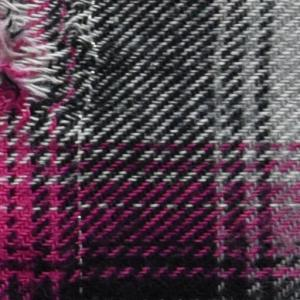Damage: (1, 1, 105, 120)
